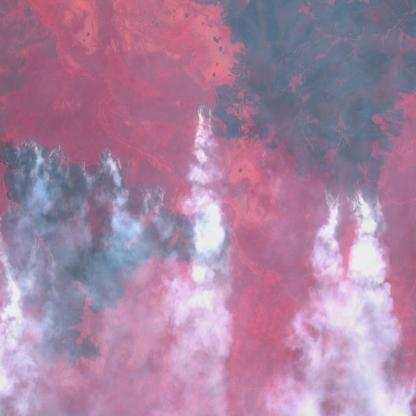fire: (0, 102, 236, 312), (323, 181, 392, 231)
